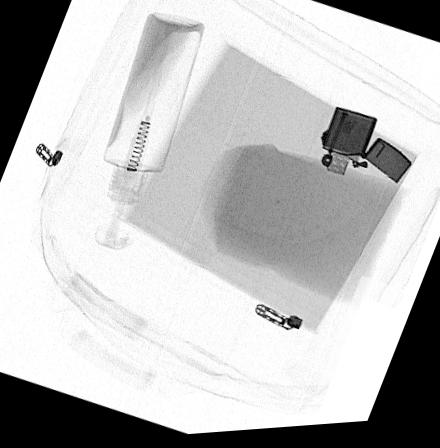Lighter: (319, 111, 411, 191)
